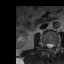CCS_normal: (48, 41, 51, 51)
LFS_stenosis: (53, 42, 56, 49)
LLS_normal: (51, 42, 53, 50)
RFS_normal: (43, 41, 46, 48)
RLS_normal: (46, 42, 48, 49)
